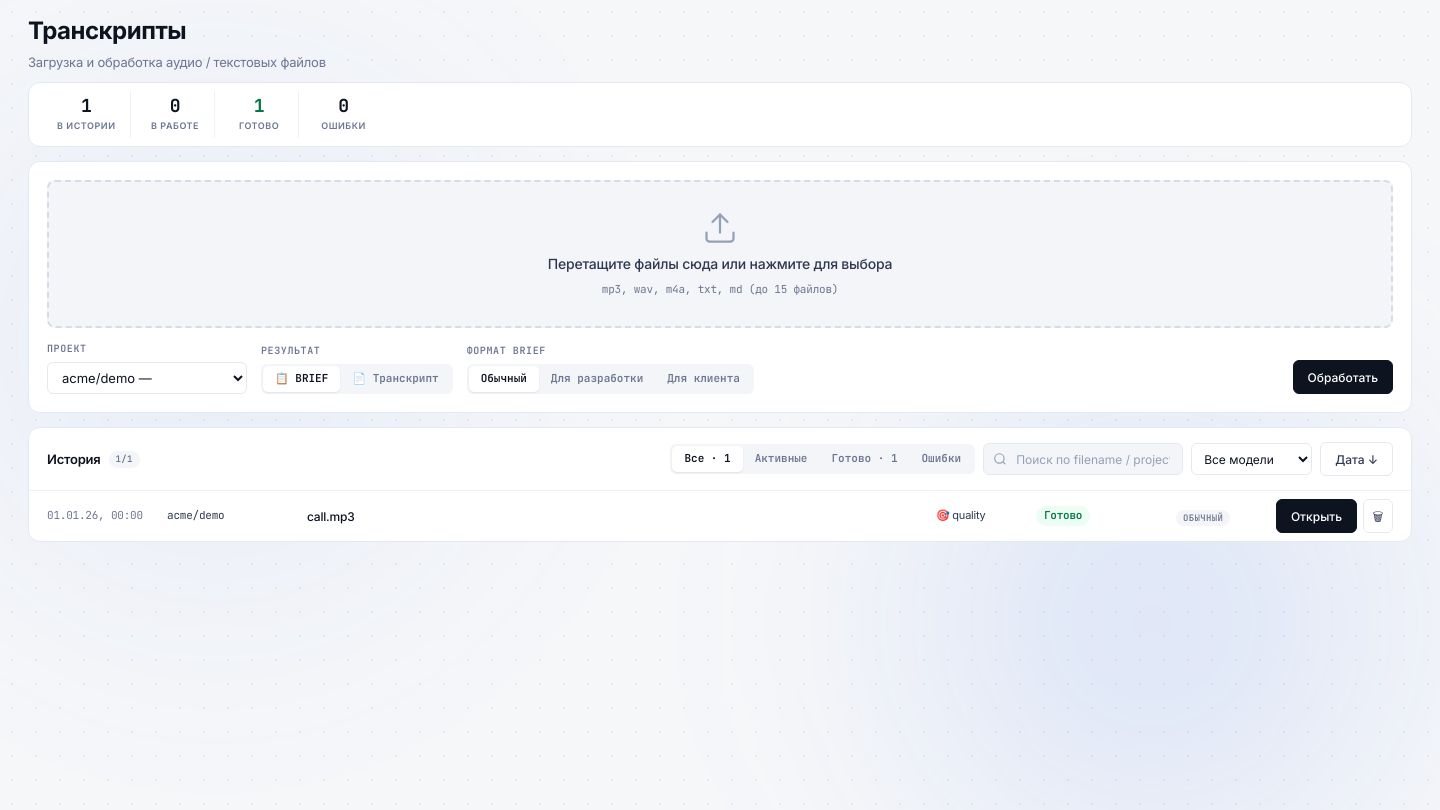
Scenario: TranscriptsView uncertain speakers banner › shows the banner while a speaker is uncertain, and hides it once merge resolves it
// History loads, then open the "done" job to reach briefResult.
Step 1. Click the button "Открыть" → [1316, 516], box left=1276, top=499, right=1357, bottom=533
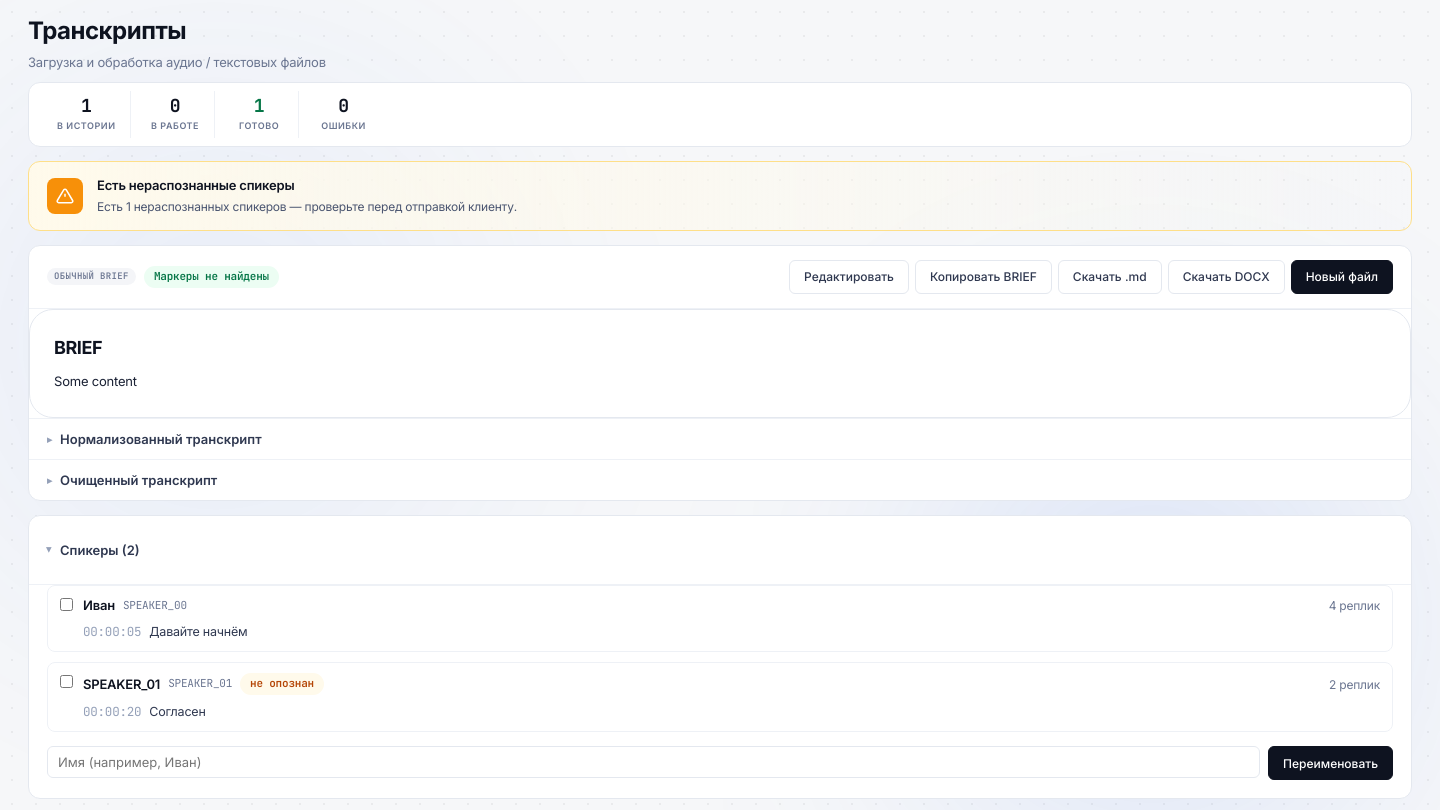
Expected: the text "Есть 1 нераспознанных спикеров — проверьте перед отправкой клиенту" is shown, left=97, top=198, right=517, bottom=214
// Merge the uncertain speaker into the canonical one via the existing UI.
Step 2. Click the checkbox named "Выбрать спикера Иван" → [66, 605], box left=60, top=598, right=73, bottom=611
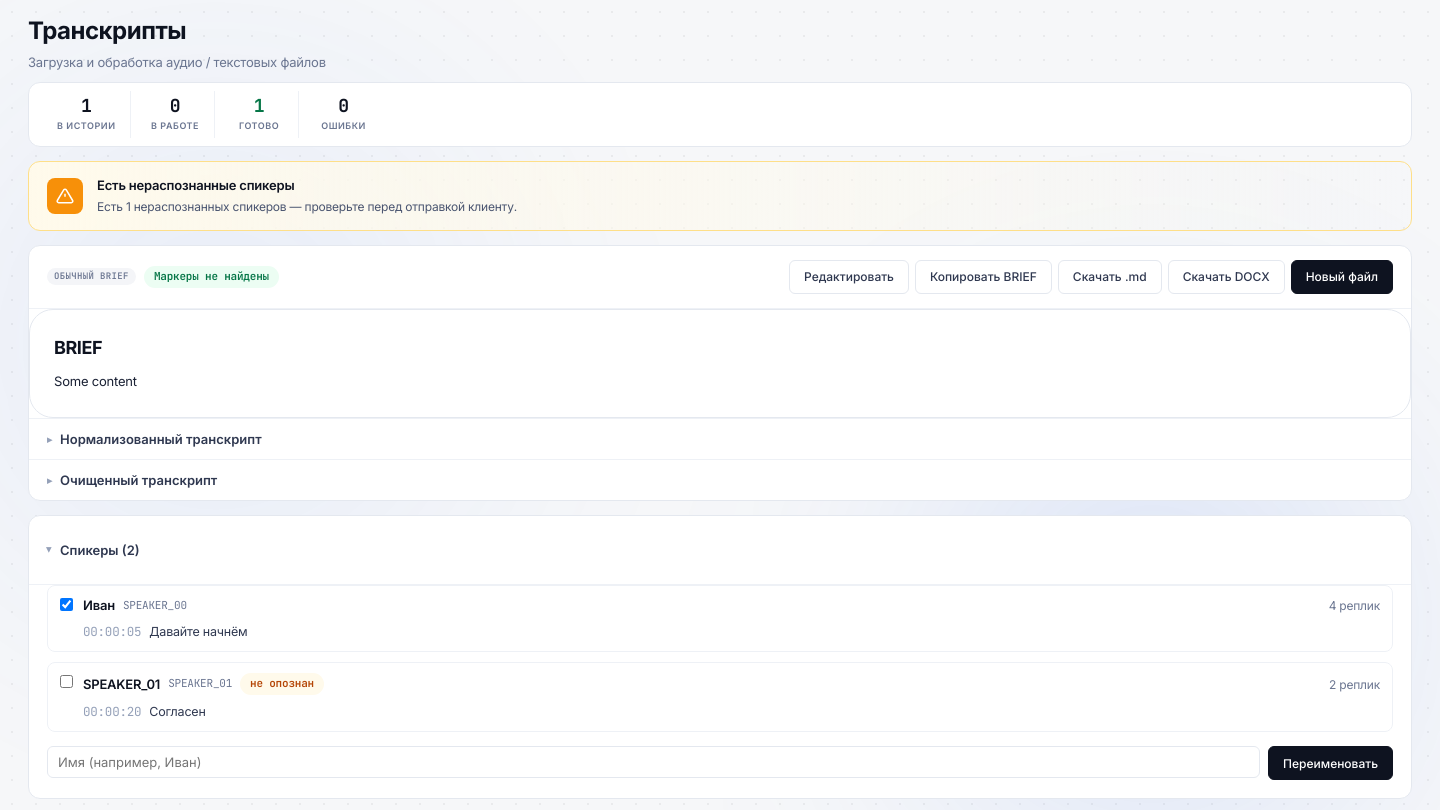
Step 3. Click the checkbox named "Выбрать спикера SPEAKER_01" → [66, 682], box left=60, top=675, right=73, bottom=688
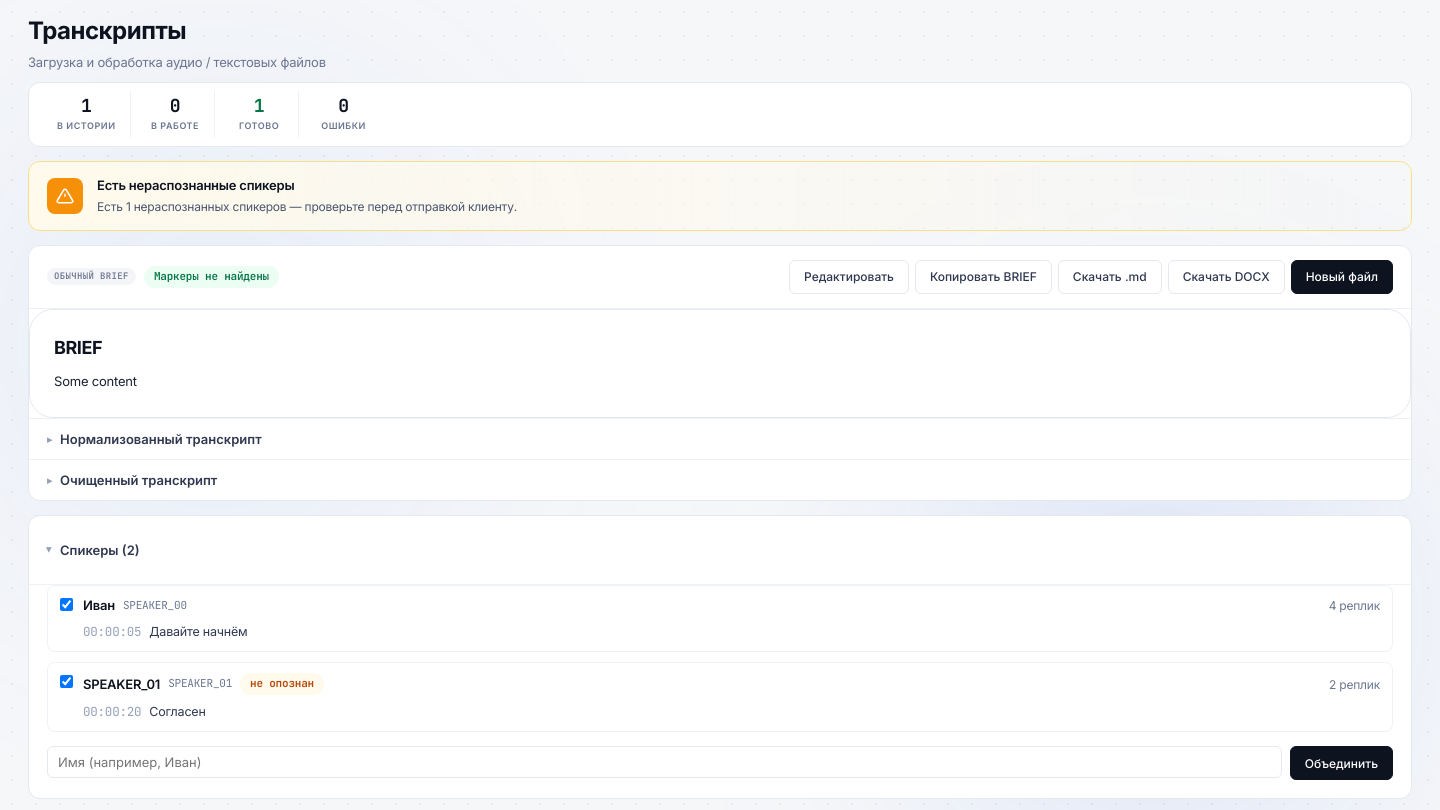
Step 4. Type "Иван" into the field named "Итоговое имя для выбранных спикеров" → [664, 762], box left=47, top=746, right=1282, bottom=778
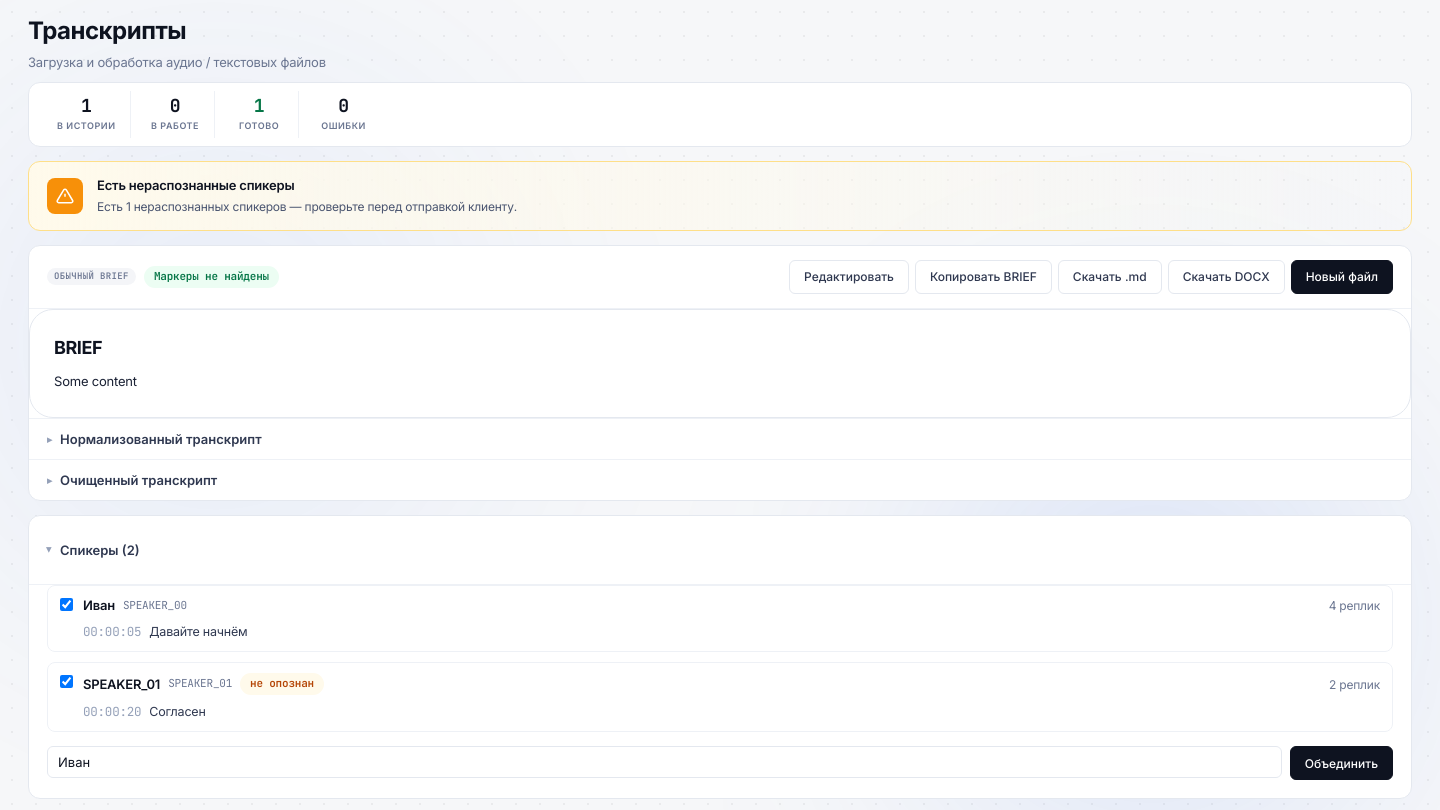
Step 5. Click the button "Объединить" → [1341, 764], box left=1290, top=746, right=1393, bottom=780
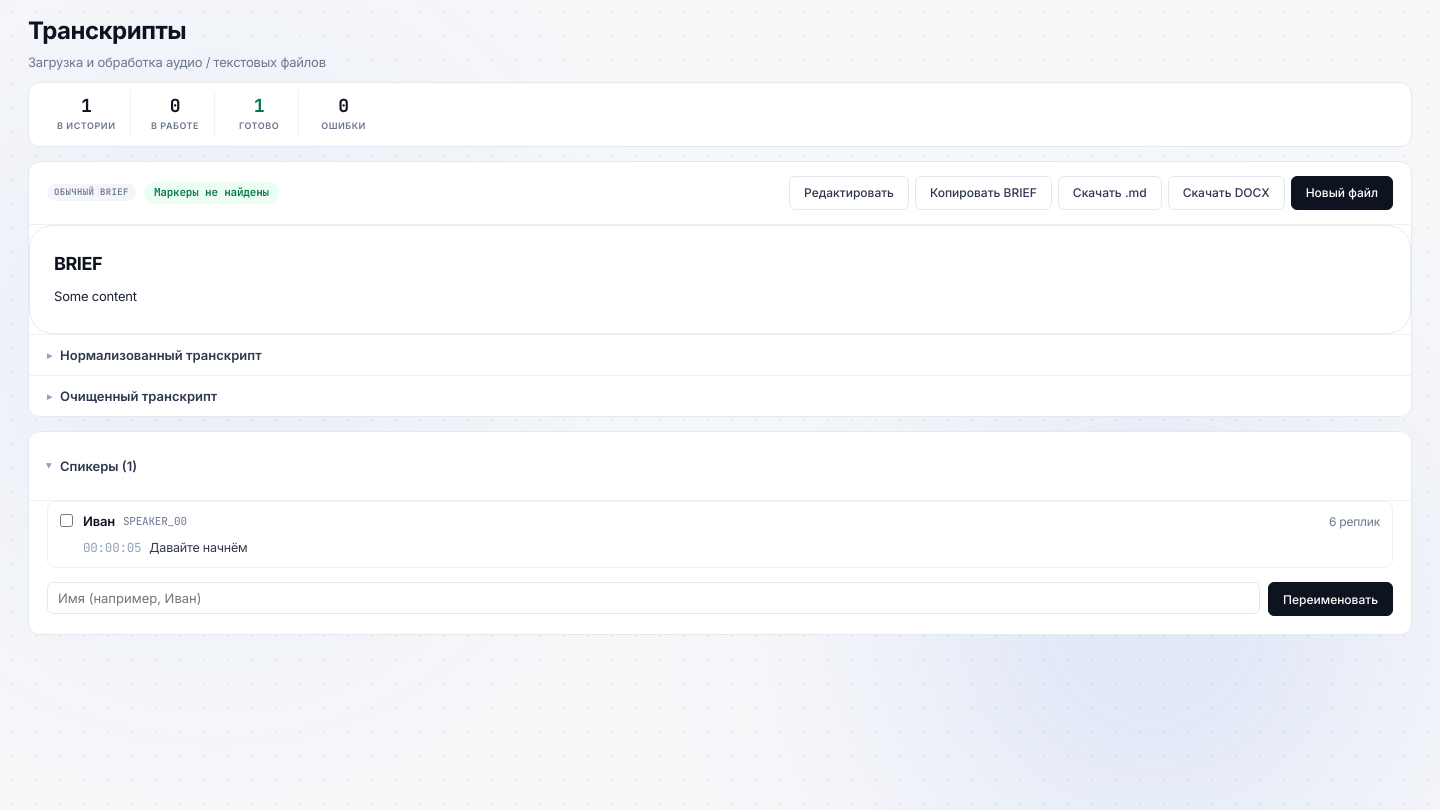
Expected: the text "Есть нераспознанные спикеры" is gone
